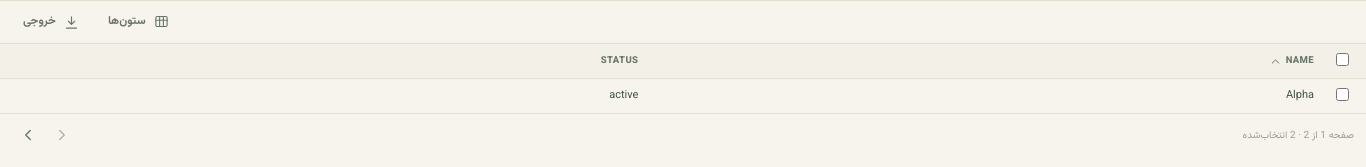
DataTable › sorts, selects and paginates generic rows
The width and height of the screenshot is (1366, 167).
Expected: the text "Alpha" is shown, [647,78,1323,113]
Step 1. Click the button named "بعدی" → {"x": 28, "y": 135}, box [12,120,43,151]
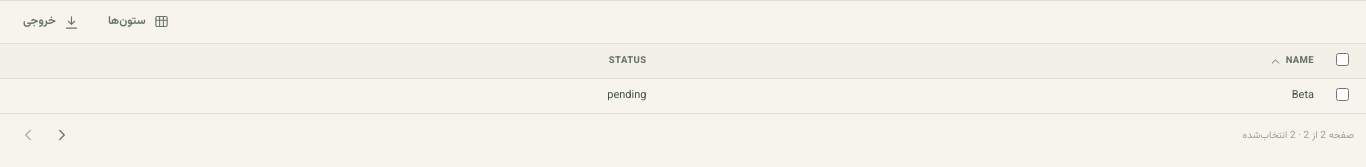
Result: the text "Beta" is shown at [655,78,1323,113]
Step 2. Click the checkbox named "select row 2" → {"x": 1342, "y": 94}, box [1336,88,1349,101]
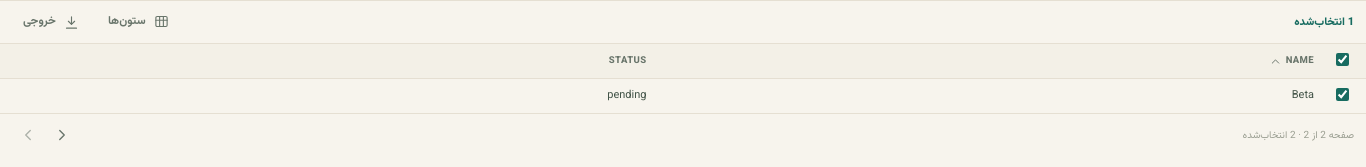
Result: the text "1 انتخاب‌شده" is shown at [1294,14,1354,30]
